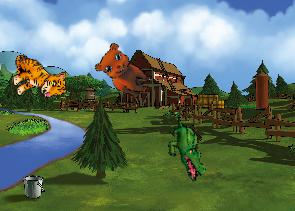bear: (90, 39, 160, 101)
crocodile: (154, 115, 220, 183)
tiger: (10, 52, 67, 100)
